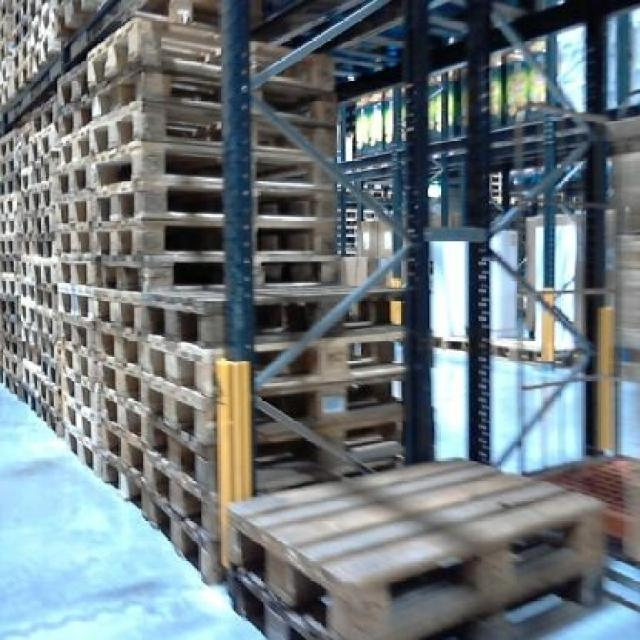pallets: (228, 460, 600, 637)
